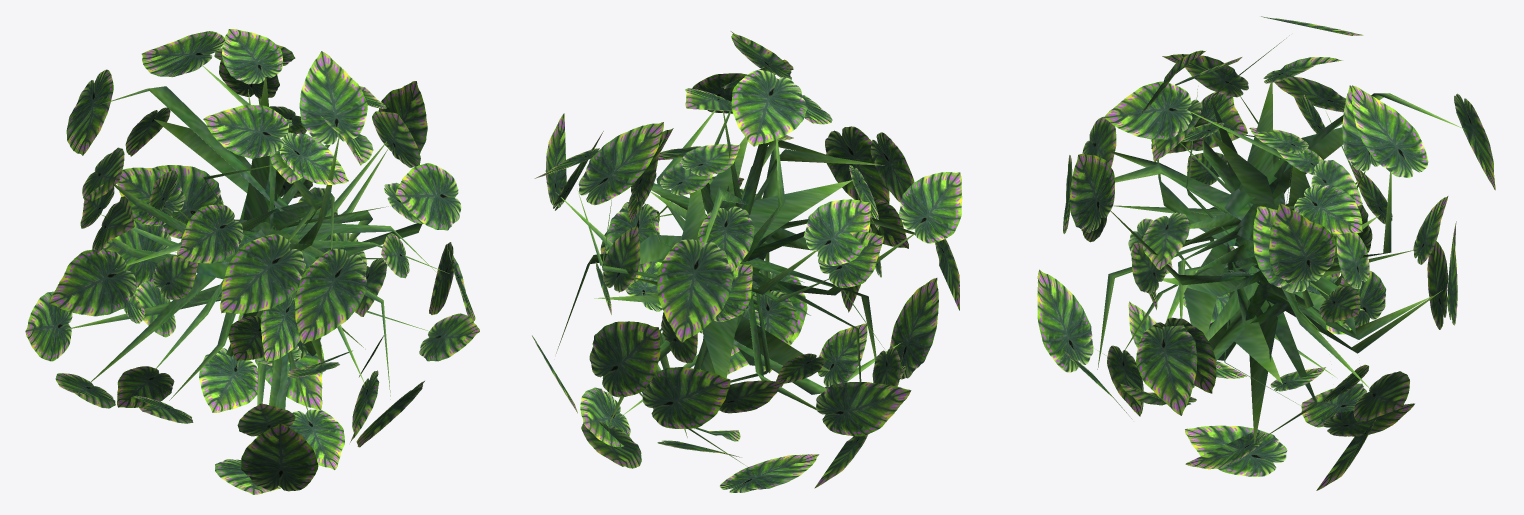
The model's file is StemmedBroadleafAir2.fbx.
3 renders of one model, left to right at view 1: azimuth 30°, elevation 25°; view 2: azimuth 150°, elevation 25°; view 3: azimuth 270°, elevation 25°, orthographic.
Visible parts, largest first — view 1: Cube.002; view 2: Cube.002; view 3: Cube.002.
Part boxes in pixels (box(x1,y1,x2,y2)): Cube.002: box(25, 29, 479, 494); Cube.002: box(532, 31, 962, 492); Cube.002: box(1037, 16, 1495, 490).
Bounding box in the file's own units: 1363 × 1398 × 1382.
